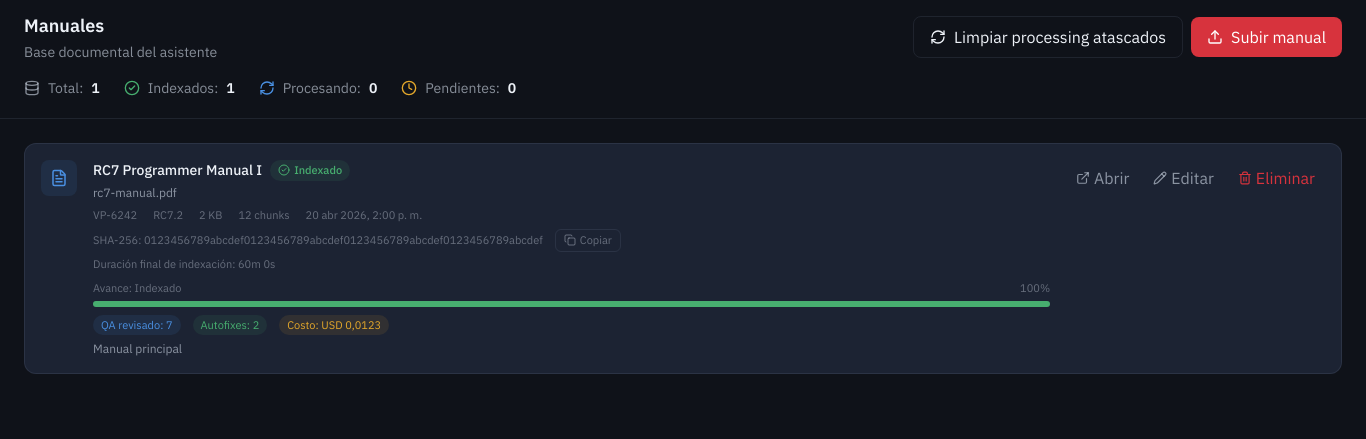
Test: ManualsPanel › copies SHA-256 and shows copied feedback
This screenshot has width=1366, height=439.
Expected: the heading "RC7 Programmer Manual I" is shown, [93,160,262,180]
Click the button with aria-label "copiar sha-256 de rc7 programmer manual i" at (588, 240), box [555,229,621,252]
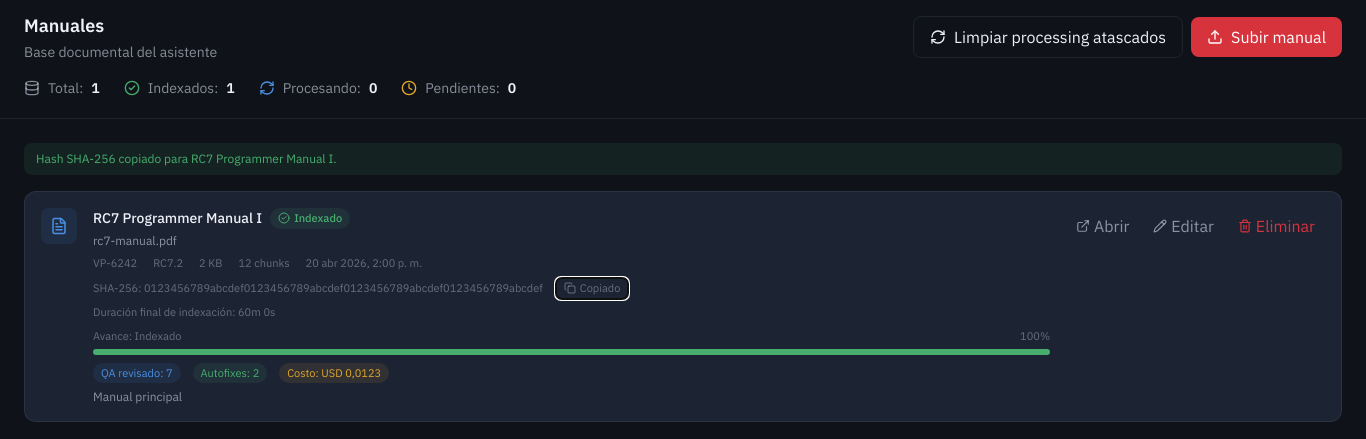
Expected: the button with aria-label "copiar sha-256 de rc7 programmer manual i" reads "Copiado", [555,277,629,300]
